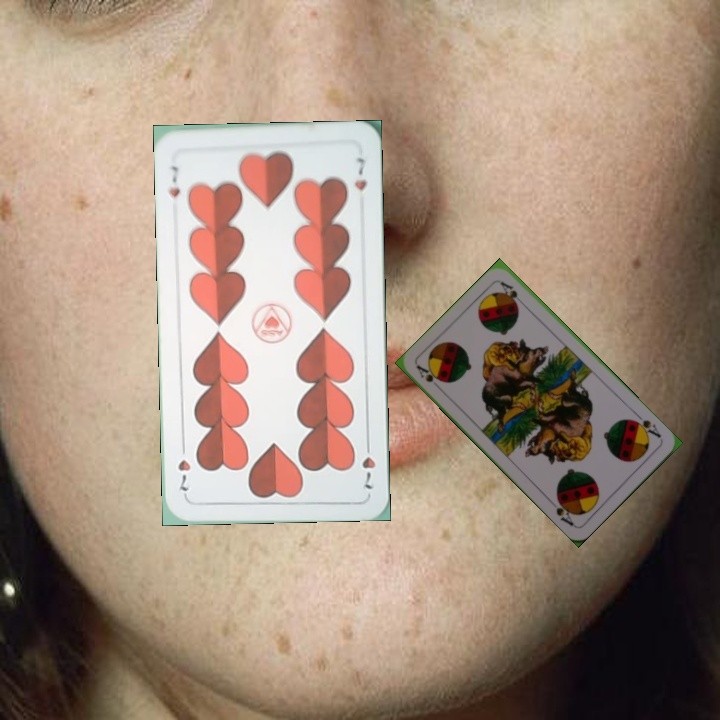H7: (358, 435, 378, 491), (164, 162, 182, 200)
SA: (627, 409, 664, 441), (412, 361, 445, 394)
